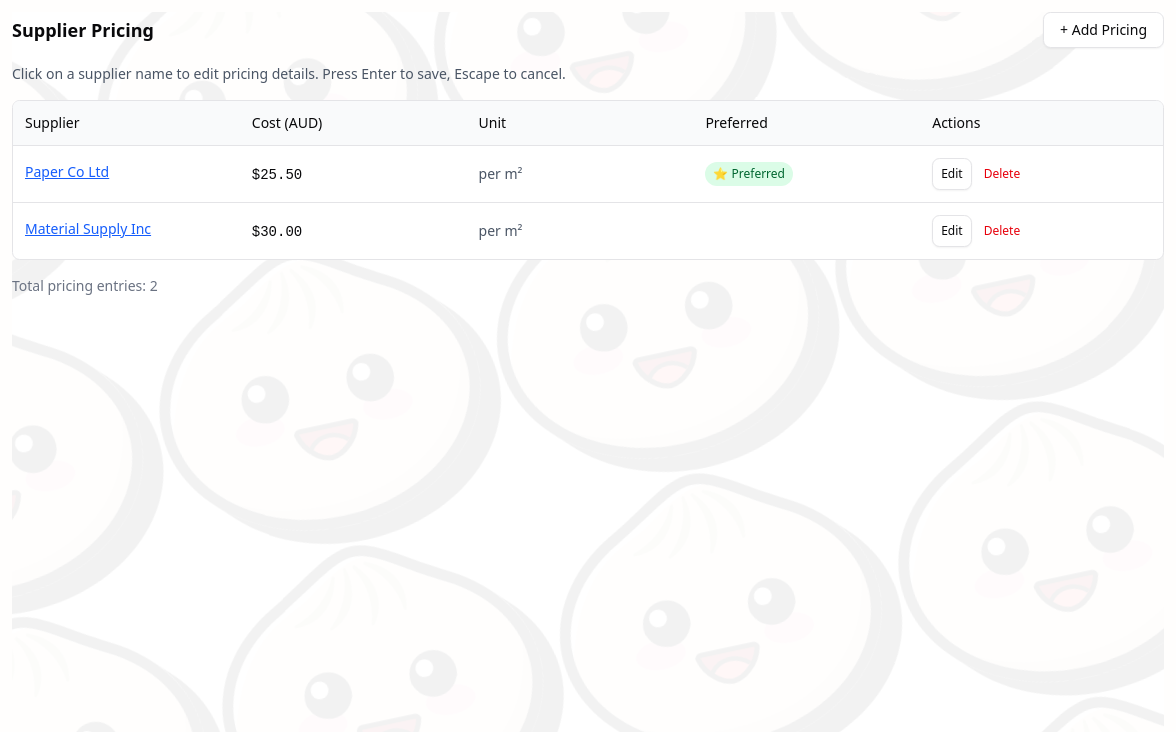
Test: SupplierPricingEditor › Add New Pricing › opens edit mode when add pricing button is clicked
Click the button "+ Add Pricing".
click(1104, 30)  # box [1043, 12, 1164, 48]
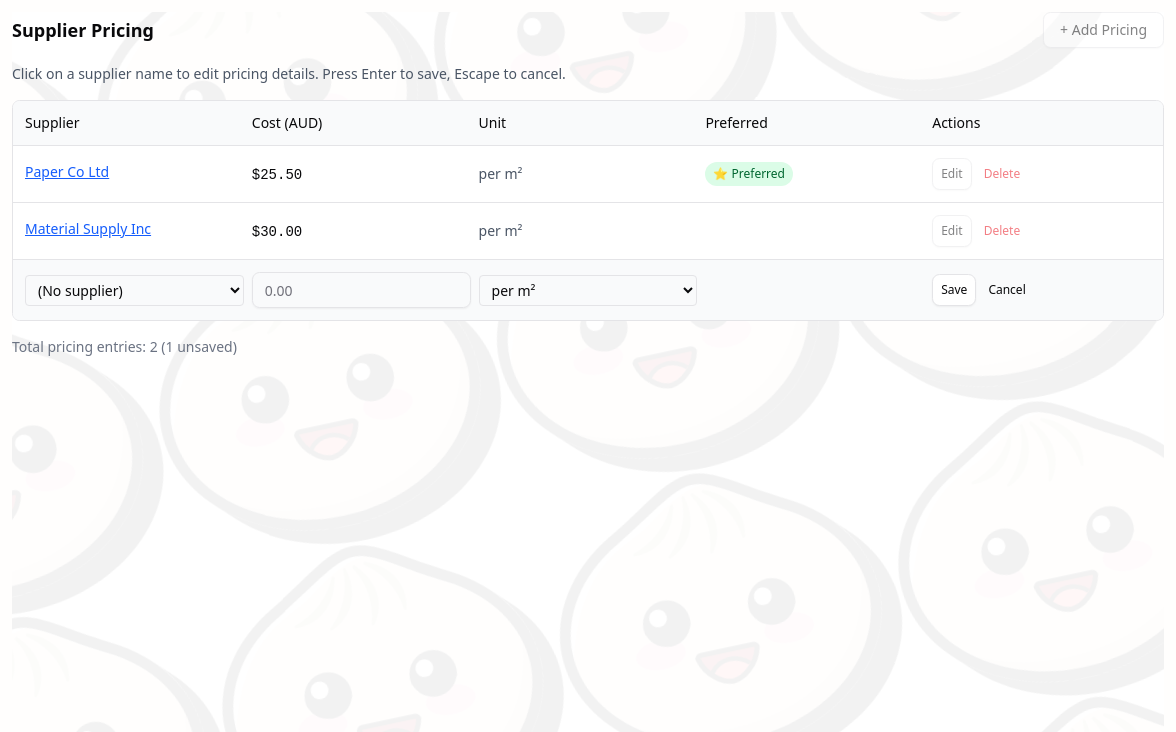
Now the button "Save" is shown, box [932, 274, 976, 306]
Now the button "Cancel" is shown, box [980, 274, 1034, 306]
